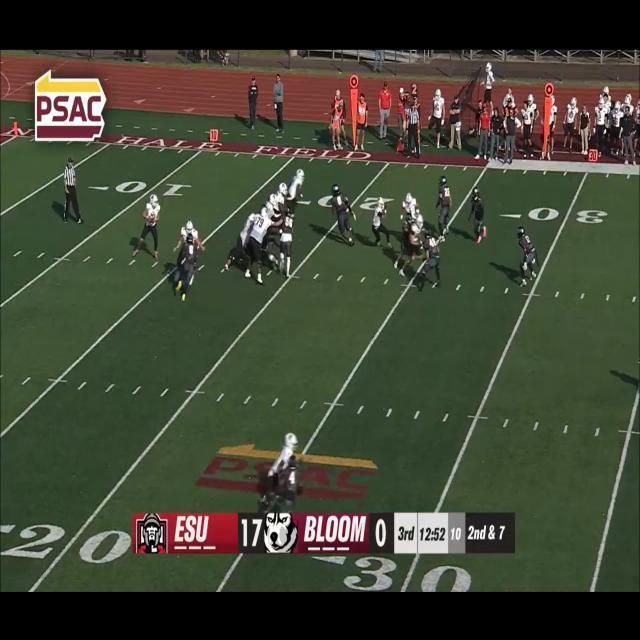football: (145, 212, 159, 224)
